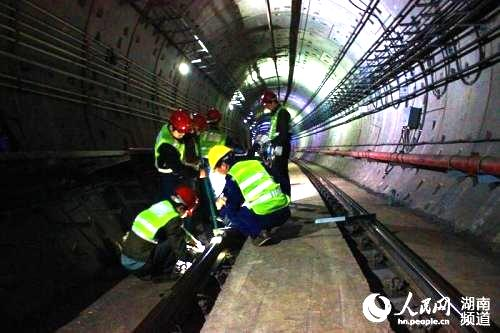helmet: (170, 184, 200, 220), (207, 144, 236, 175), (167, 108, 193, 139), (189, 113, 208, 136), (259, 89, 278, 112), (205, 108, 223, 130)
